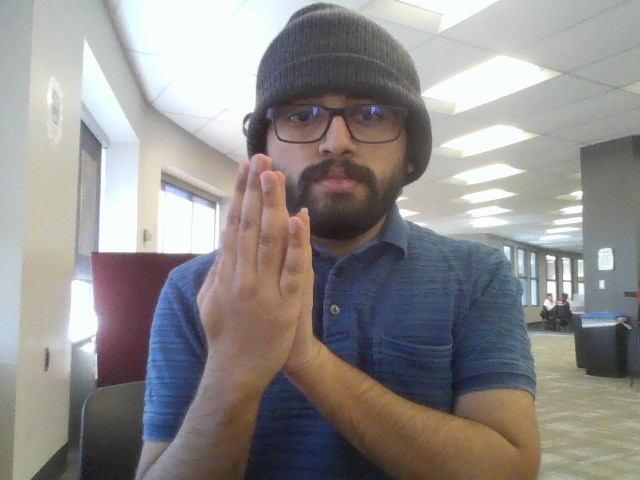start: (190, 147, 335, 406)
